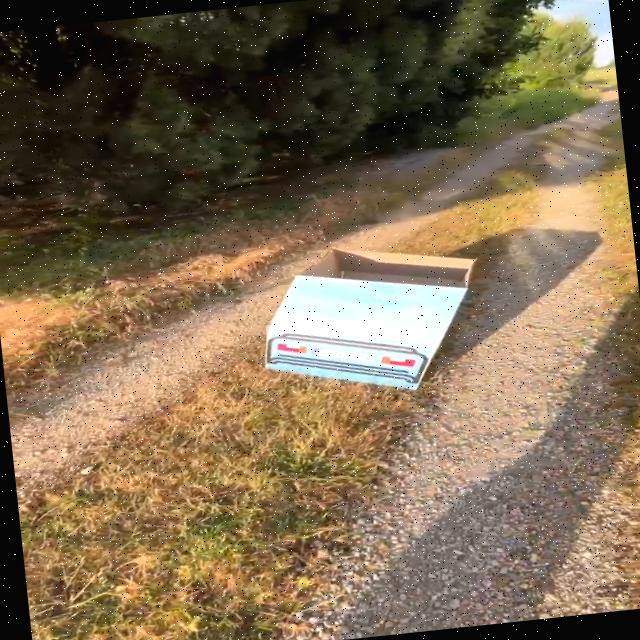blue_car: (207, 204, 557, 432)
